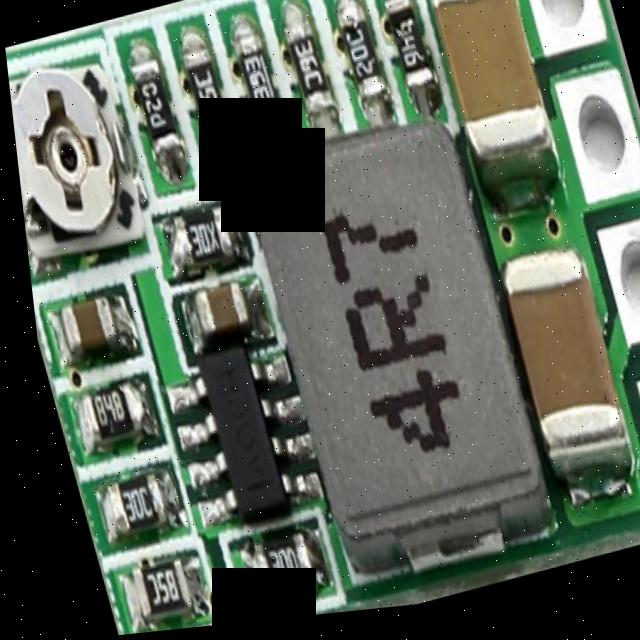IC: (166, 334, 298, 535)
capacitor 1V5: (485, 243, 625, 490), (413, 0, 563, 215), (43, 293, 122, 362), (172, 283, 246, 345)
inductor F1: (226, 112, 552, 604)
potentiometer POT1: (5, 49, 145, 271)
resistor IR1: (173, 32, 235, 164), (124, 56, 189, 181), (273, 9, 337, 133), (375, 0, 438, 112), (330, 0, 387, 121), (228, 530, 307, 611), (230, 32, 284, 147), (112, 551, 184, 630), (161, 201, 234, 278), (69, 378, 140, 456), (92, 468, 161, 546)
